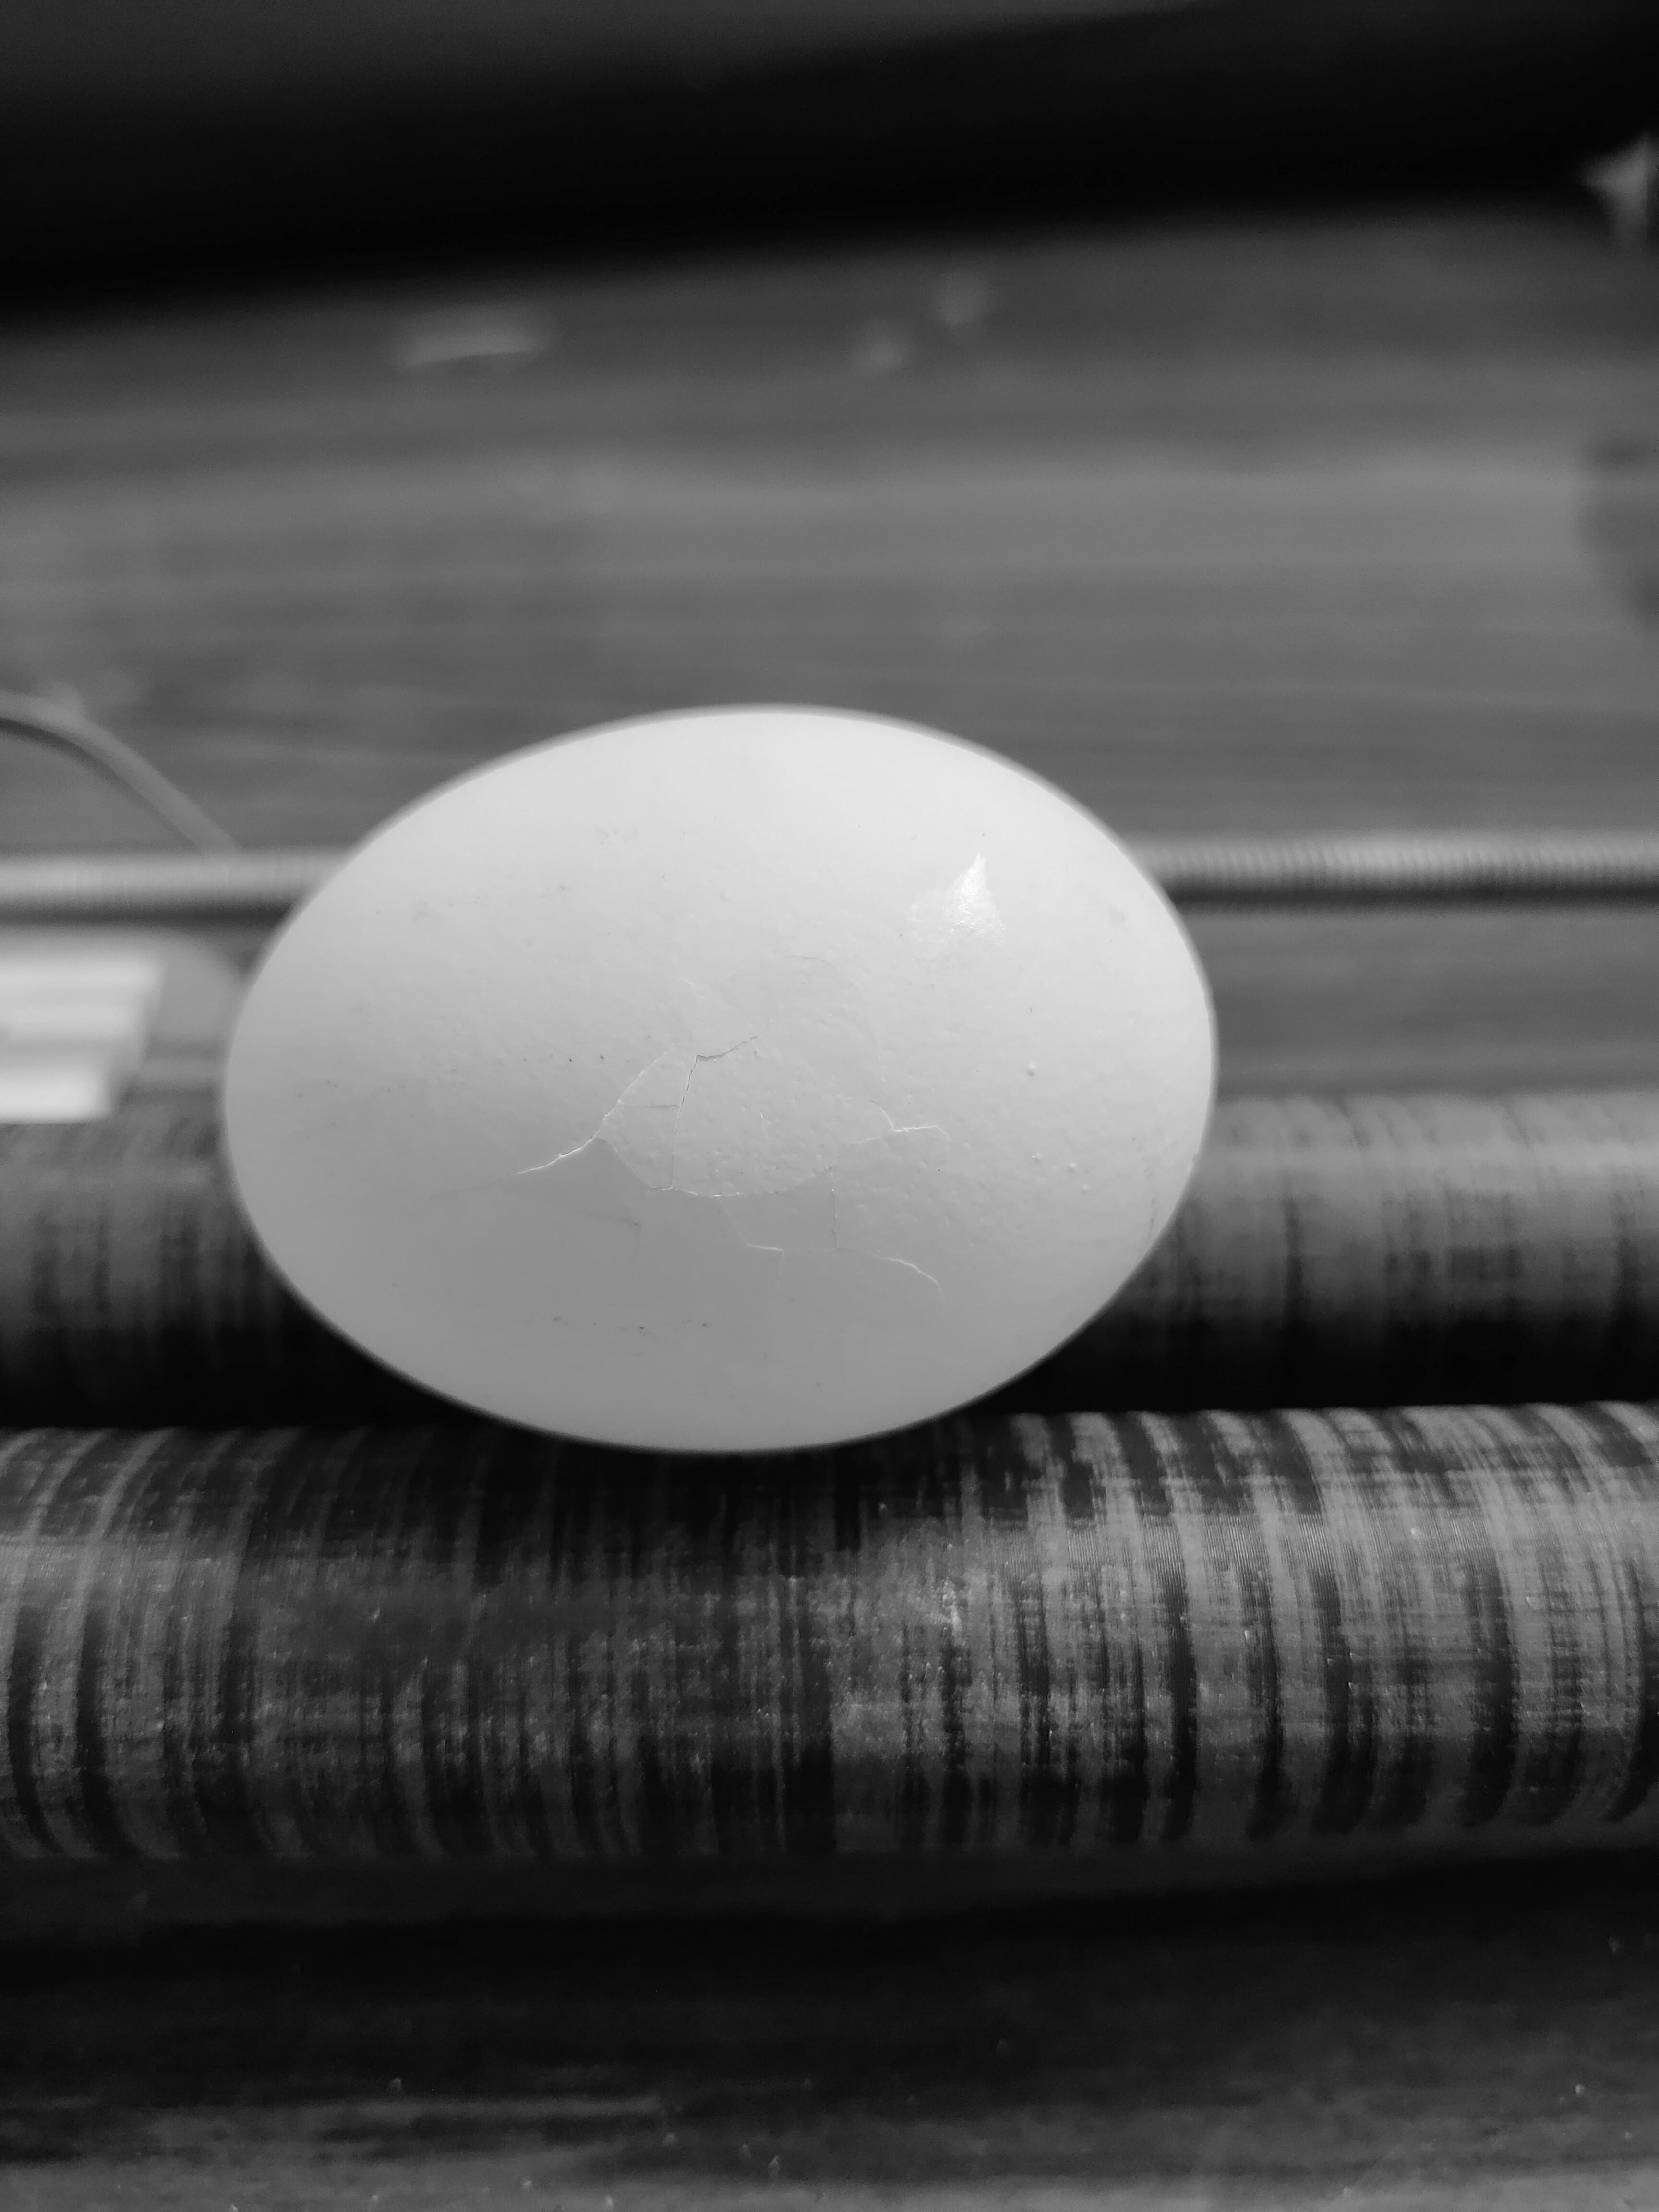telur: (197, 693, 1241, 1472)
